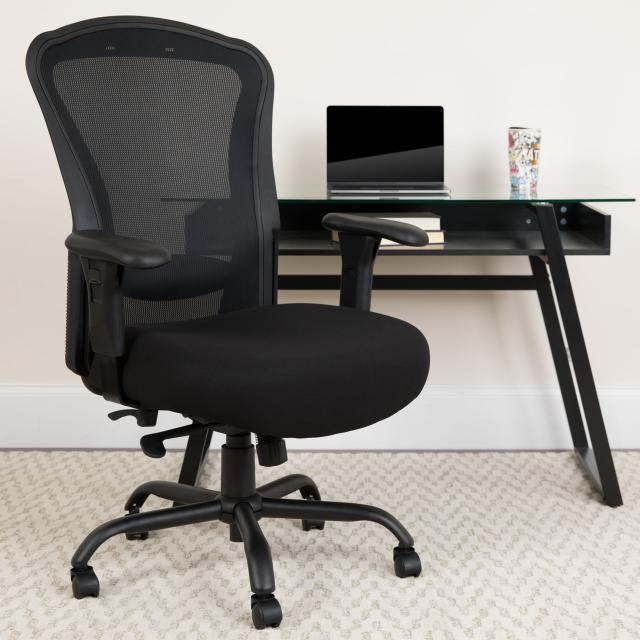chair: (27, 16, 430, 630)
table: (155, 187, 634, 512)
